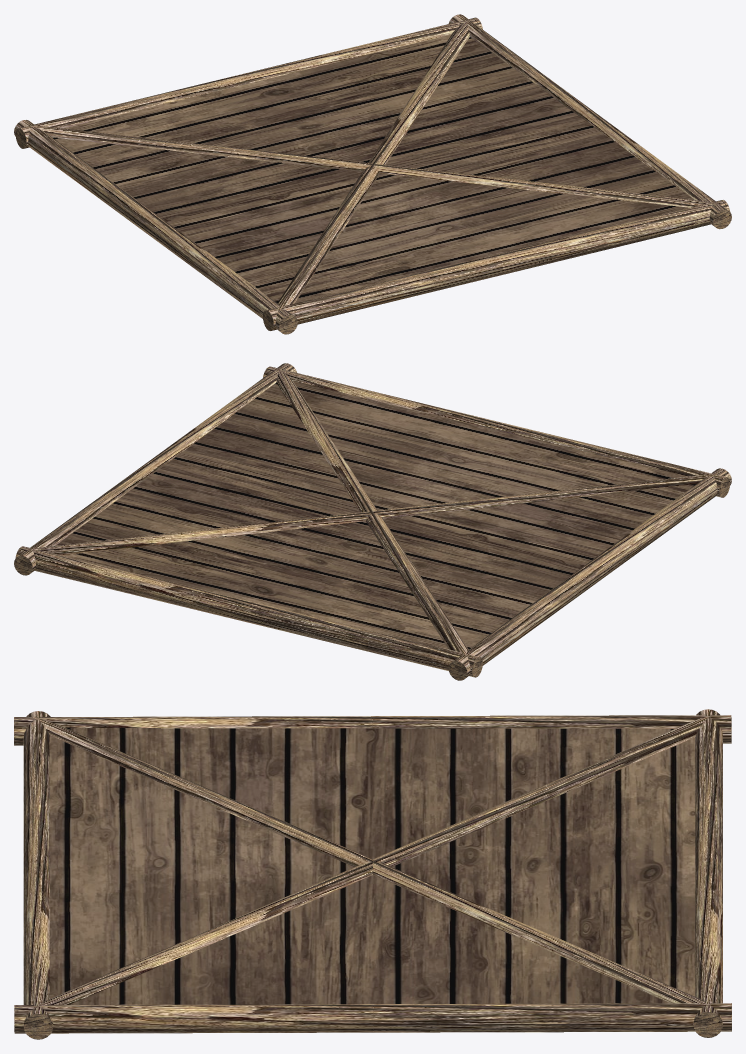
Rendered from wood roof.gltf.
3 renders of one model, top to bottom at view 1: azimuth 30°, elevation 25°; view 2: azimuth 150°, elevation 25°; view 3: azimuth 270°, elevation 25°, orthographic. The views are drawn at different scales.
Parts seen in each view (by area): view 1: Küp, Silindir4, Silindir3, Silindir5, Silindir2, Silindir1, Silindir; view 2: Küp, Silindir1, Silindir3, Silindir2, Silindir5, Silindir, Silindir4; view 3: Küp, Silindir, Silindir5, Silindir2, Silindir3, Silindir1, Silindir4.
Part boxes in pixels (x1,y1,x2,y2): Küp: (52,34,694,303); Silindir4: (263,200,730,330); Silindir3: (14,120,297,334); Silindir5: (33,126,716,207); Silindir2: (277,21,469,310); Silindir1: (15,17,482,148); Silindir: (448,14,731,229); Küp: (55,381,695,649); Silindir1: (15,546,482,677); Silindir3: (448,468,731,680); Silindir2: (33,474,717,555); Silindir5: (276,368,468,654); Silindir: (14,363,296,575); Silindir4: (263,366,730,497); Küp: (49,728,695,1004); Silindir: (14,1003,731,1033); Silindir5: (34,717,707,1008); Silindir2: (32,716,706,1004); Silindir3: (14,715,731,745); Silindir1: (693,709,722,1037); Silindir4: (23,711,53,1039).
Size of the model in its own units: 2.16 by 0.0958 by 2.17.
7 materials, 7 textured.
